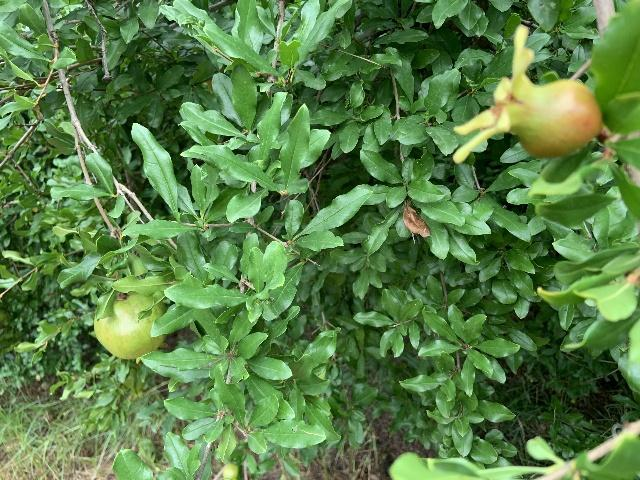early-fruit: (452, 24, 600, 161)
mid-growth: (93, 290, 167, 364)
